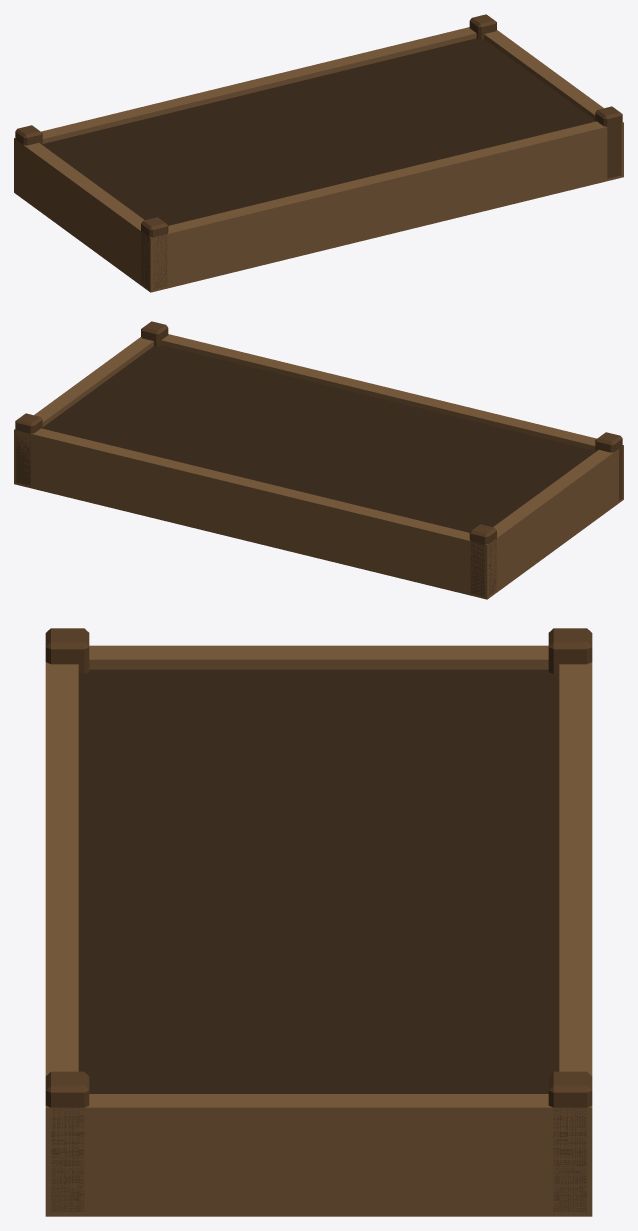
The model's file is Prop_Bee_FlowerBed_LOD1.glb.
3 renders of one model, top to bottom at view 1: azimuth 30°, elevation 25°; view 2: azimuth 150°, elevation 25°; view 3: azimuth 270°, elevation 25°, orthographic. The views are drawn at different scales.
Visible parts, largest first — view 1: Prop_Bee_FlowerBed; view 2: Prop_Bee_FlowerBed; view 3: Prop_Bee_FlowerBed.
Part boxes in pixels (<box>): Prop_Bee_FlowerBed: <box>14,14,623,292</box>; Prop_Bee_FlowerBed: <box>14,321,623,599</box>; Prop_Bee_FlowerBed: <box>45,628,592,1216</box>.
Size of the model in its own units: 2 by 0.26 by 1.
